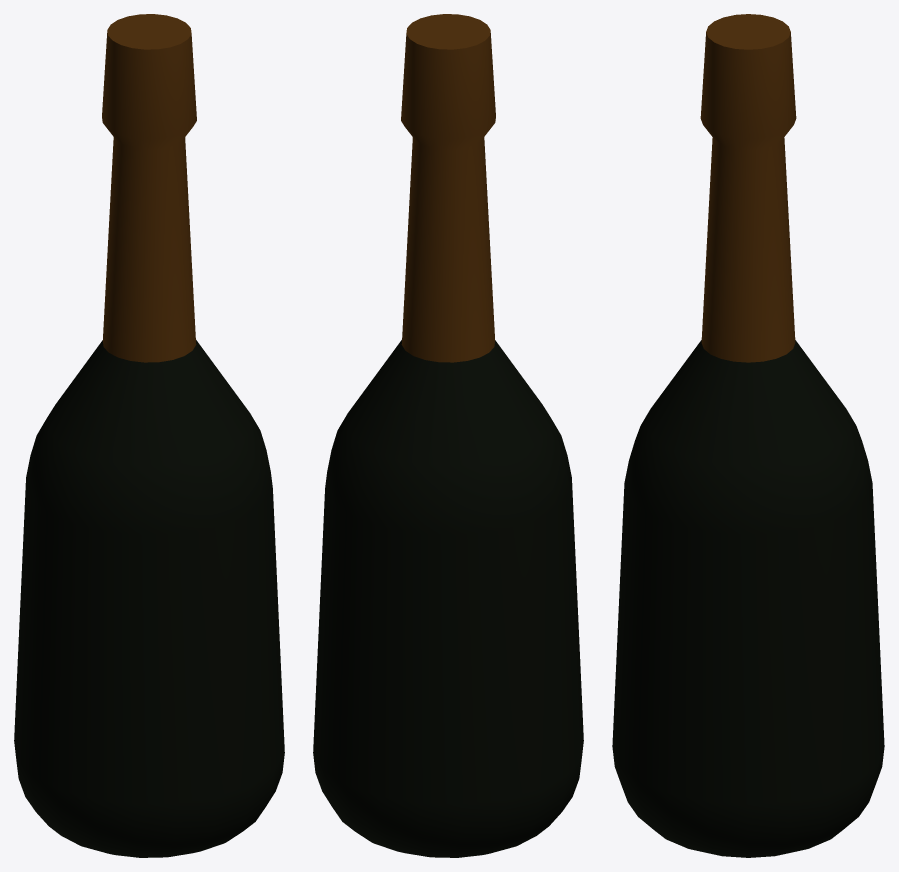
The model's file is champagnebottle.fbx.
The picture shows the model from 3 angles, left to right: view 1: azimuth 30°, elevation 25°; view 2: azimuth 150°, elevation 25°; view 3: azimuth 270°, elevation 25°; orthographic projection.
Visible parts, largest first — view 1: champagnebottle; view 2: champagnebottle; view 3: champagnebottle.
Boxes of the visible parts, <box> form: champagnebottle: <box>14,14,284,857</box>; champagnebottle: <box>313,14,583,857</box>; champagnebottle: <box>612,14,884,857</box>.
Size of the model in its own units: 4.65 by 14.93 by 4.65.
